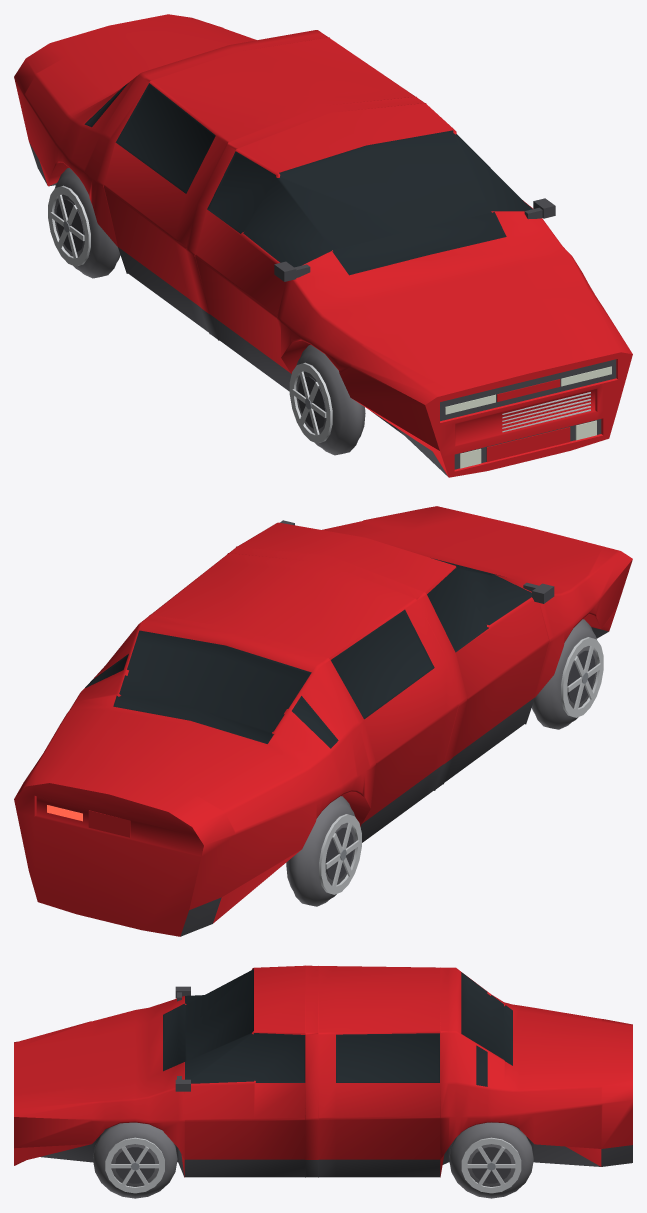
Rendered from Sedan_Mid_A_24.fbx.
3 views of the same model, one above another, from view 1: azimuth 30°, elevation 25°; view 2: azimuth 150°, elevation 25°; view 3: azimuth 270°, elevation 25° (orthographic). The views are drawn at different scales.
Visible parts, largest first — view 1: LOD0; view 2: LOD0; view 3: LOD0.
Part boxes in pixels (x1,y1,x2,y2): LOD0: (14,14,632,477); LOD0: (14,506,632,936); LOD0: (14,965,632,1198).
Size of what is drawn, in the model's own units: 187 by 145 by 490.
